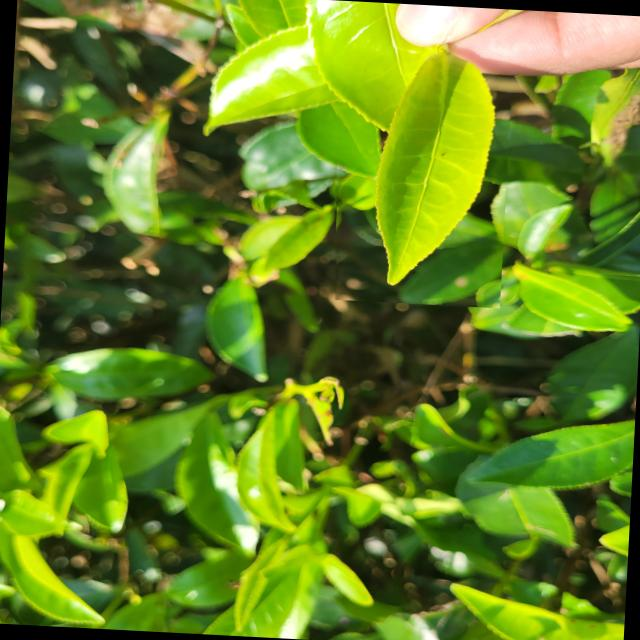Catagory A(1-2 days): (324, 29, 513, 308)
